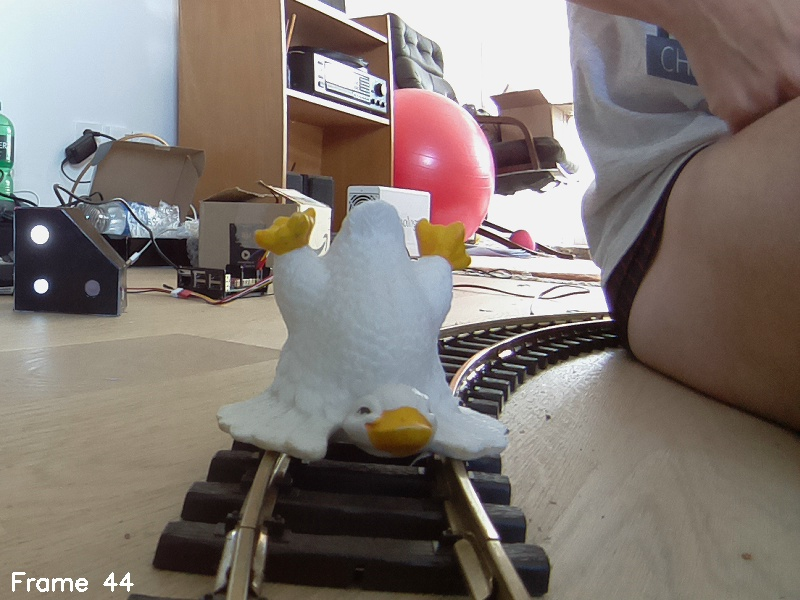Ente: (213, 198, 523, 482)
Fahrt: (15, 205, 132, 320)
